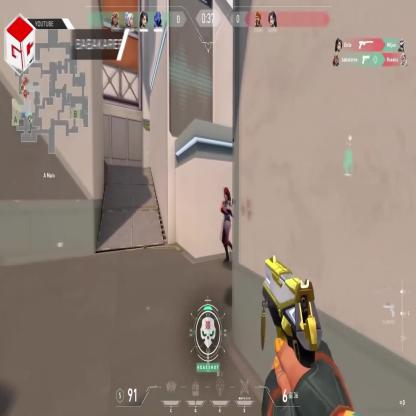enemy: (219, 186, 238, 268)
enemy_head: (223, 188, 229, 202)
